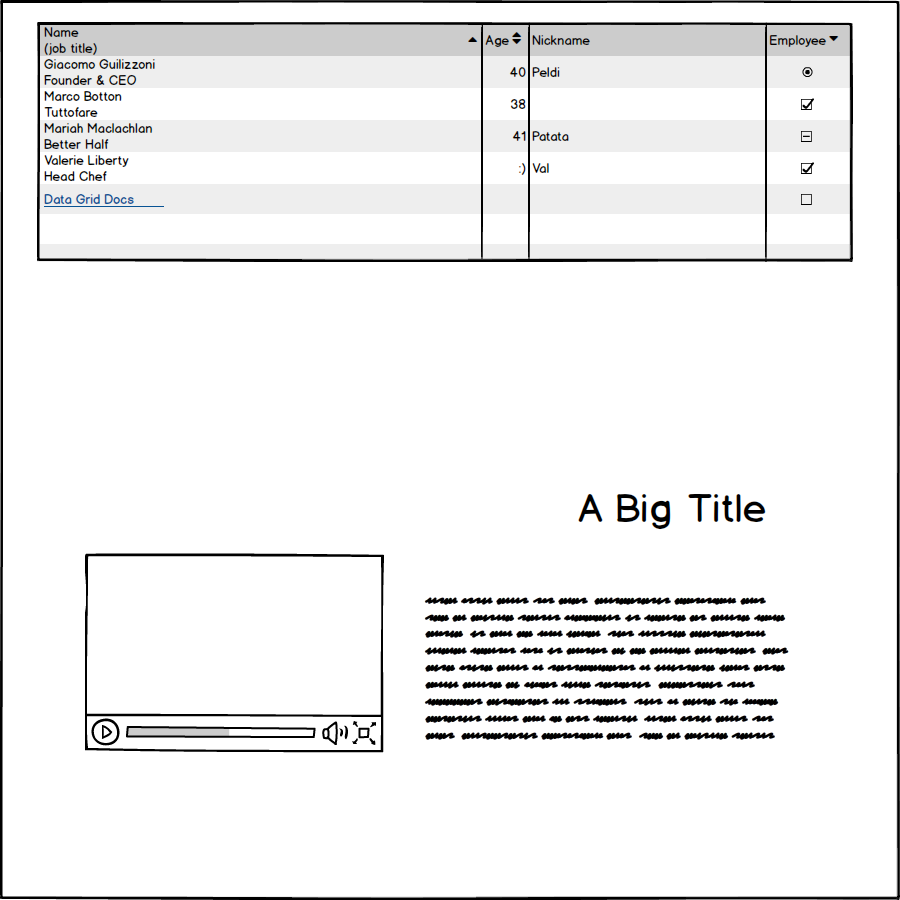h1: (578, 486, 779, 533)
p: (423, 588, 798, 748)
table: (31, 17, 863, 267)
video: (79, 548, 389, 759)
